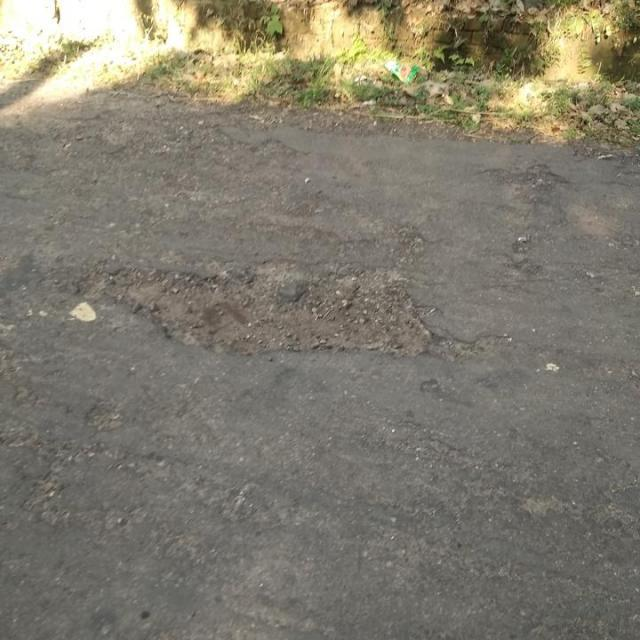pothole: (74, 256, 442, 364), (481, 162, 568, 186)
